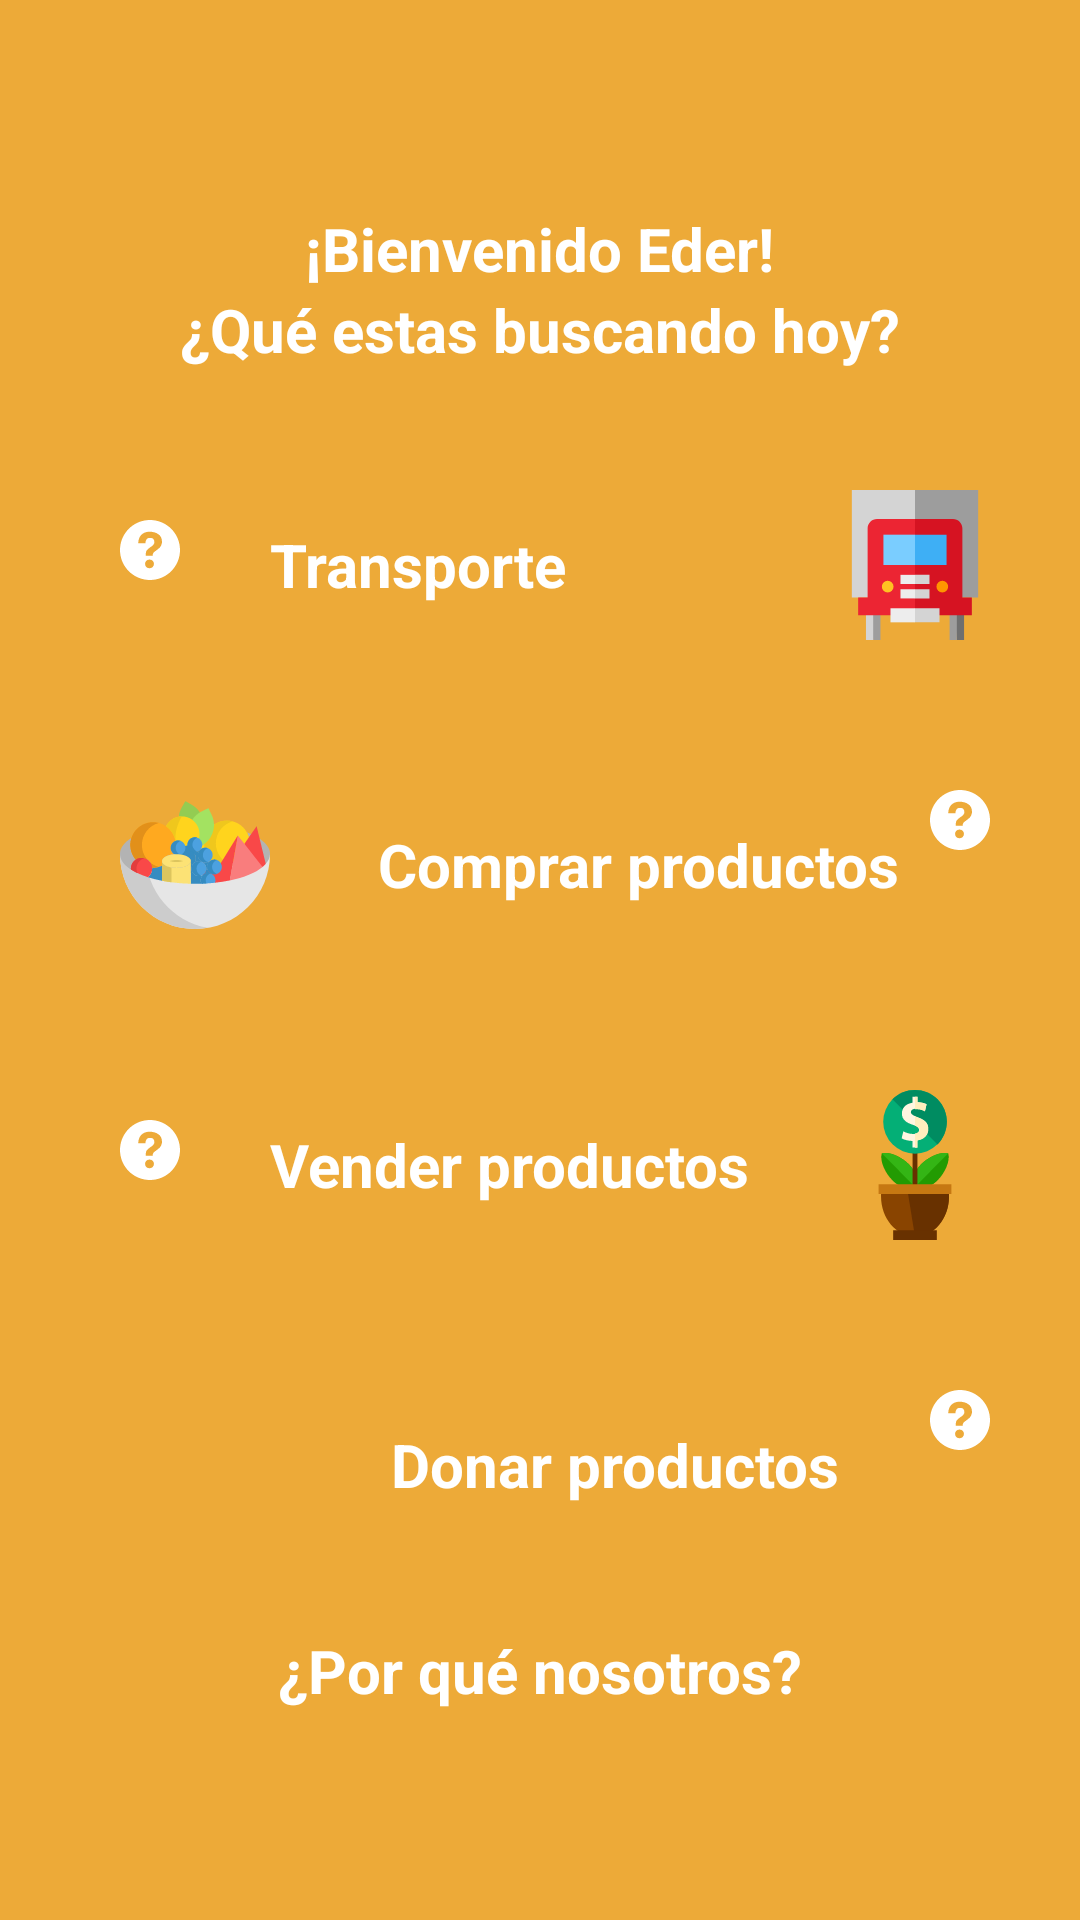

Where icons sit on this 1080px x 1920px app screen, as (x1=x1, y1=y1, x2=x2, y2=y2):
delivery truck: (x1=851, y1=490, x2=978, y2=640)
fruit salad: (x1=120, y1=801, x2=270, y2=929)
growth: (x1=879, y1=1090, x2=951, y2=1240)
help: (x1=120, y1=520, x2=180, y2=580), (x1=930, y1=790, x2=990, y2=850), (x1=120, y1=1120, x2=180, y2=1180), (x1=930, y1=1390, x2=990, y2=1450)
